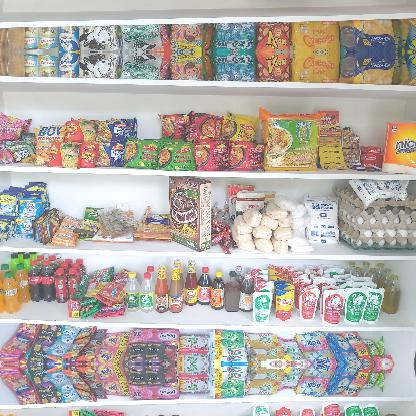Koko-Krunch: (166, 174, 212, 252)
